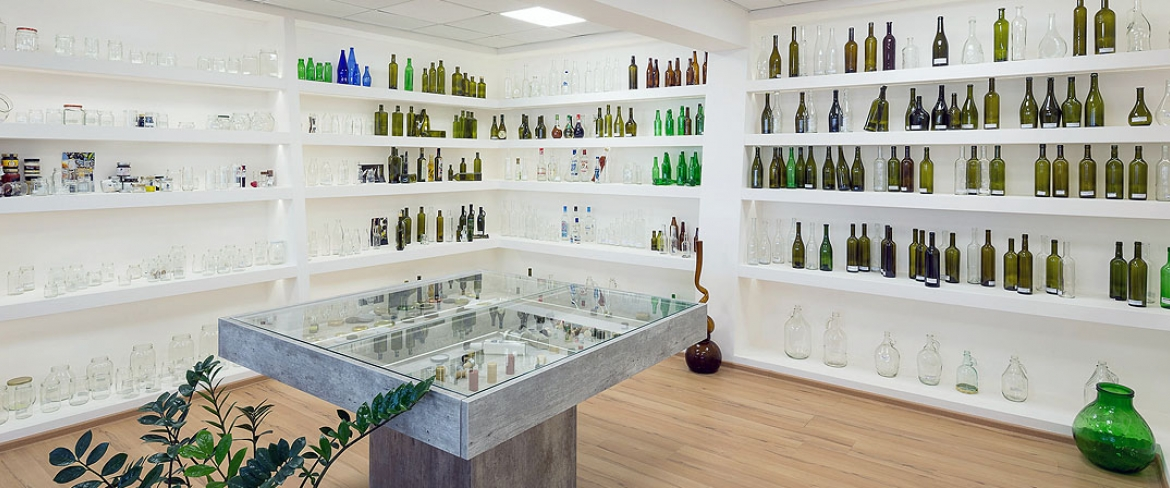glass_bottle: (994, 354, 1043, 407), (818, 305, 856, 370), (781, 302, 817, 363), (911, 330, 947, 385), (870, 328, 903, 382), (1100, 141, 1127, 201), (1106, 239, 1131, 303), (1072, 141, 1100, 197), (980, 73, 1005, 134), (1126, 142, 1150, 205), (952, 349, 982, 398), (1124, 83, 1154, 130), (1029, 142, 1052, 203), (1052, 142, 1072, 202), (917, 141, 937, 198), (819, 219, 836, 273), (845, 222, 859, 274)
